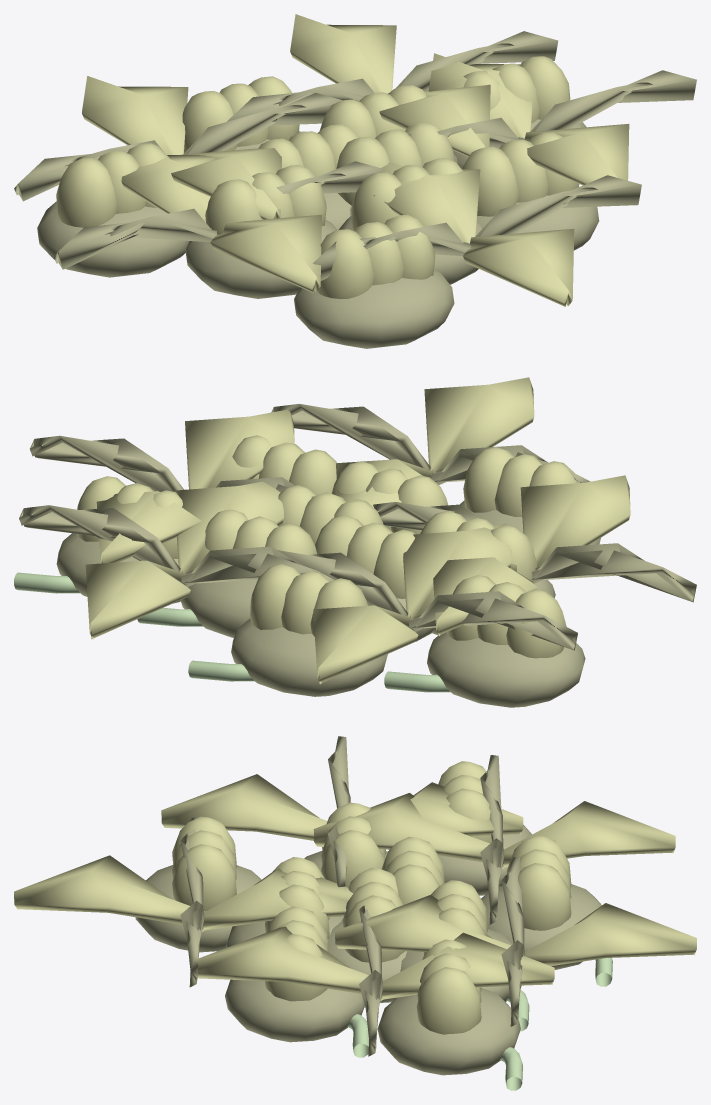
The model's file is bio_acid_mat_05_far.glb.
3 views of the same model, one above another, from view 1: azimuth 30°, elevation 25°; view 2: azimuth 150°, elevation 25°; view 3: azimuth 270°, elevation 25° (orthographic). The views are drawn at different scales.
Parts seen in each view (by area): view 1: Low buttress leaf.009, Low buttress leaf.013, Low buttress leaf.005, Low buttress leaf.017, Microbial cushion.007, Low buttress leaf.001, Reaction vesicle.021, Low buttress leaf.008, Reaction vesicle.027, Low buttress leaf.016, Low buttress leaf.004, Reaction vesicle.015 (+14 smaller); view 2: Low buttress leaf.005, Low buttress leaf.013, Low buttress leaf.017, Low buttress leaf.001, Low buttress leaf.009, Microbial cushion.009, Low buttress leaf.012, Low buttress leaf.004, Low buttress leaf.016, Microbial cushion.006, Low buttress leaf.008, Reaction vesicle.018 (+17 smaller); view 3: Low buttress leaf.013, Low buttress leaf.009, Low buttress leaf.001, Low buttress leaf.005, Low buttress leaf.017, Microbial cushion.008, Microbial cushion.005, Reaction vesicle.024, Reaction vesicle.018, Reaction vesicle.021, Reaction vesicle.012, Reaction vesicle.003 (+18 smaller).
Part boxes in pixels (x1,y1,x2,y2): Low buttress leaf.009: (373,161,574,306); Low buttress leaf.013: (290,14,490,156); Low buttress leaf.005: (82,76,281,219); Low buttress leaf.017: (121,144,321,292); Microbial cushion.007: (294,269,454,348); Low buttress leaf.001: (428,53,629,185); Reaction vesicle.021: (317,214,435,298); Low buttress leaf.008: (313,175,641,280); Reaction vesicle.027: (56,143,169,227); Low buttress leaf.016: (54,161,385,269); Low buttress leaf.004: (14,93,343,201); Reaction vesicle.015: (462,132,579,216); Low buttress leaf.005: (313,523,511,684); Low buttress leaf.013: (85,481,283,639); Low buttress leaf.017: (433,475,630,635); Low buttress leaf.001: (96,409,294,563); Low buttress leaf.009: (336,377,534,507); Microbial cushion.009: (427,632,585,707); Low buttress leaf.012: (19,505,334,586); Low buttress leaf.004: (277,550,577,650); Low buttress leaf.016: (373,502,696,602); Microbial cushion.006: (231,618,387,696); Low buttress leaf.008: (271,403,590,484); Reaction vesicle.018: (250,564,367,636); Low buttress leaf.013: (335,895,696,965); Low buttress leaf.009: (14,855,353,931); Low buttress leaf.001: (197,926,554,1000); Low buttress leaf.005: (313,793,675,869); Low buttress leaf.017: (161,774,523,840); Microbial cushion.008: (377,988,520,1075); Microbial cushion.005: (225,957,364,1042); Reaction vesicle.024: (416,939,481,1034); Reaction vesicle.018: (506,835,571,930); Reaction vesicle.021: (172,816,236,911); Reaction vesicle.012: (321,802,385,887); Reaction vesicle.003: (381,837,444,904).
Size of the model in its own units: 2.22 by 0.3799 by 2.09.
